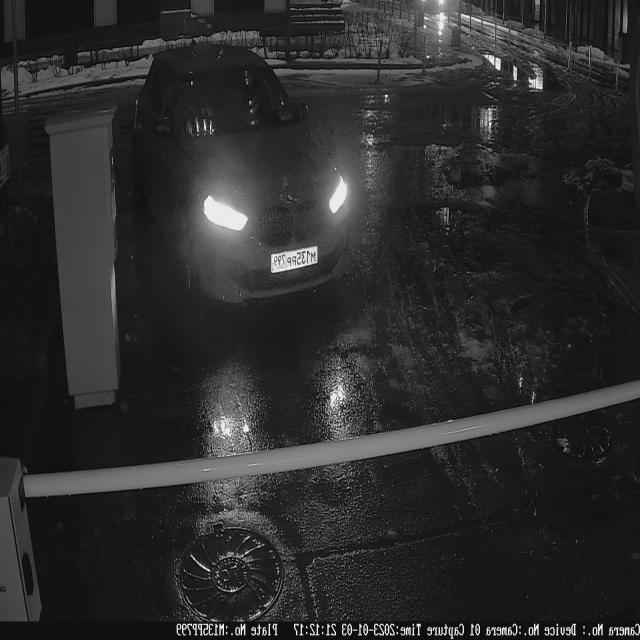car-plate-numbers: (269, 243, 322, 278)
